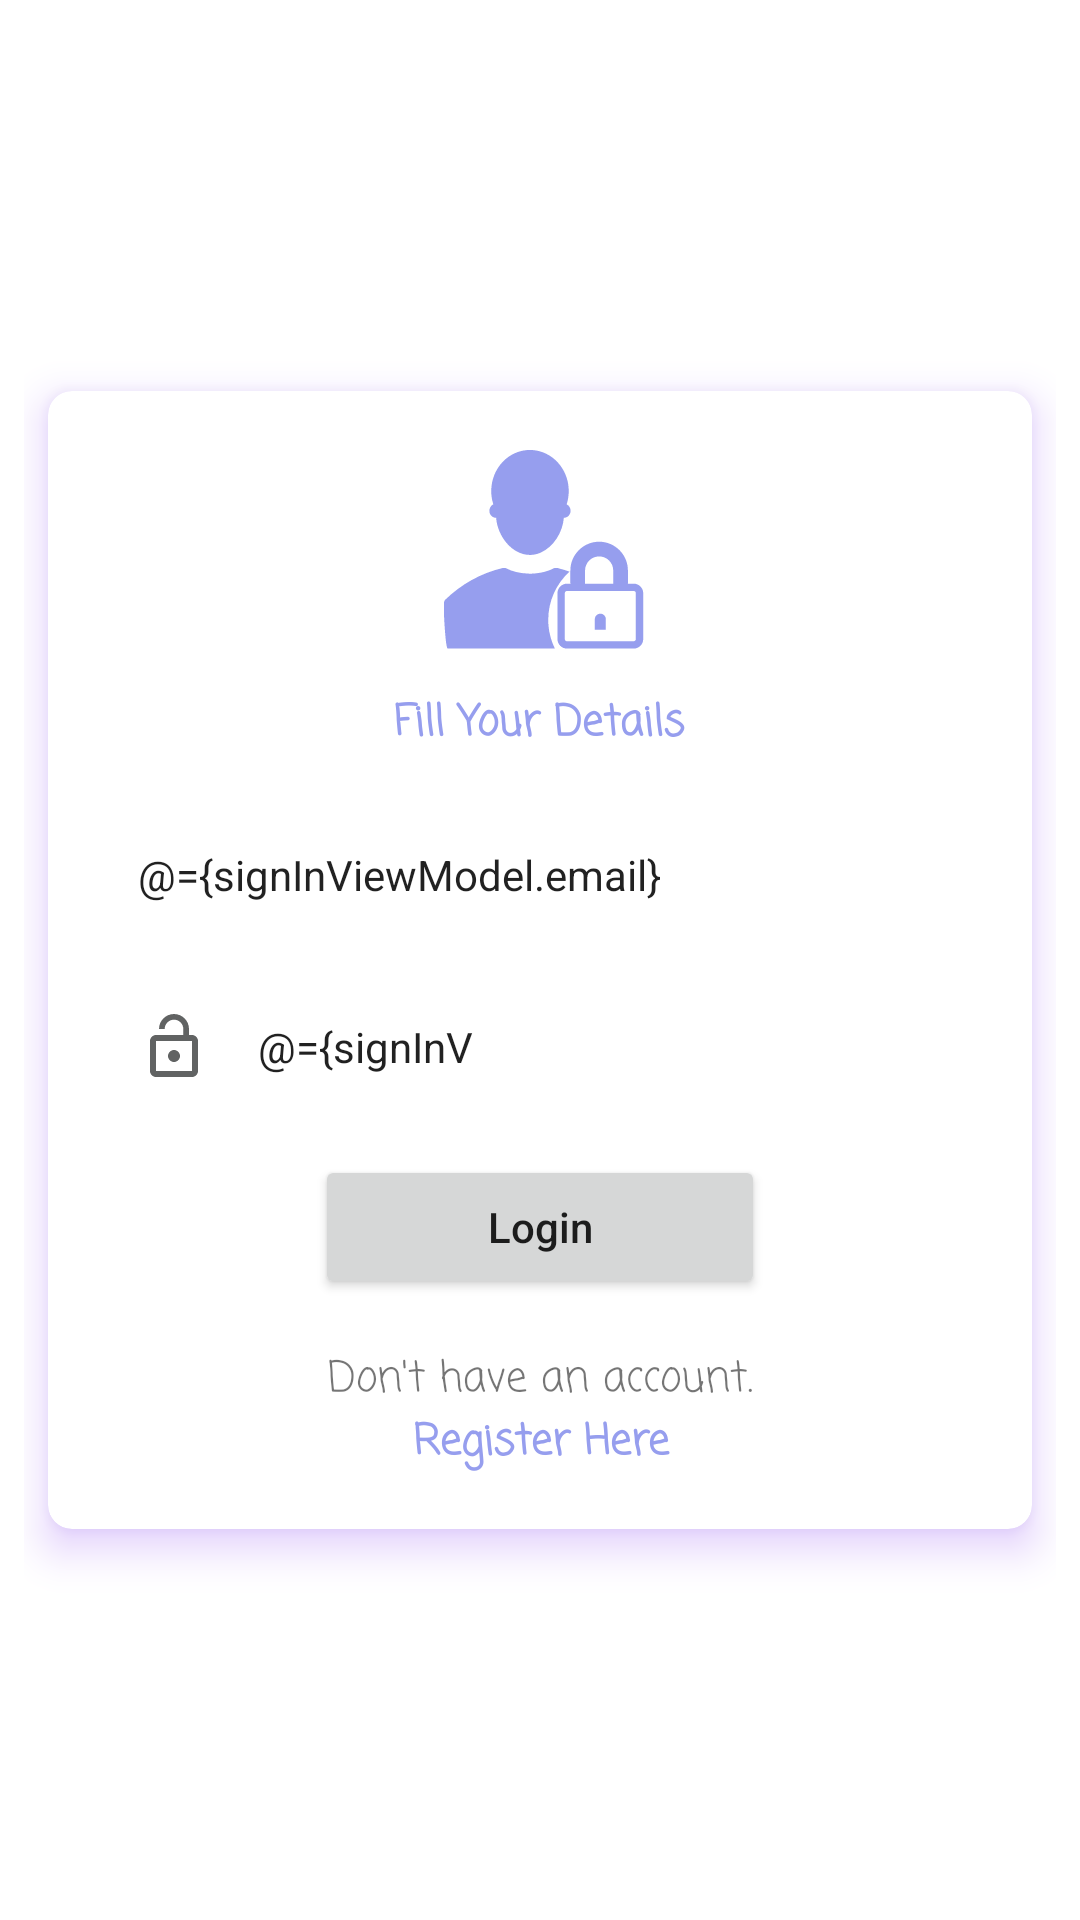

Point at icon controls on the screen. Image size 1080*1920, points as point (x, y).
login user: point (544, 549)
